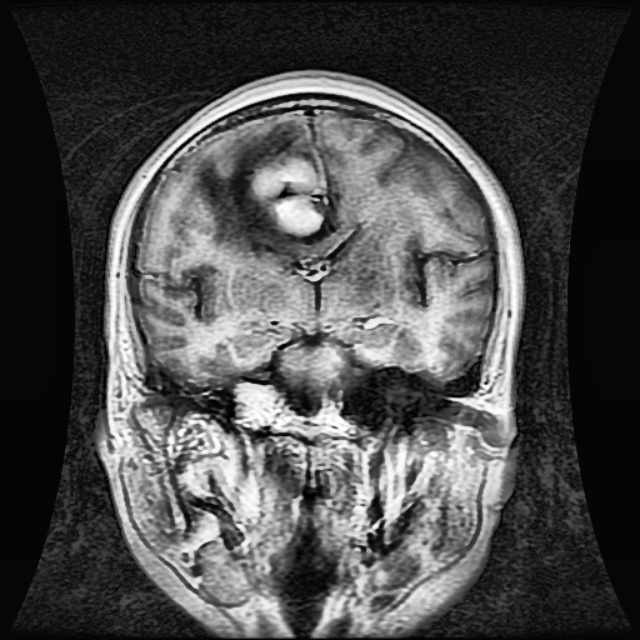Glioma: (255, 155, 324, 237)
